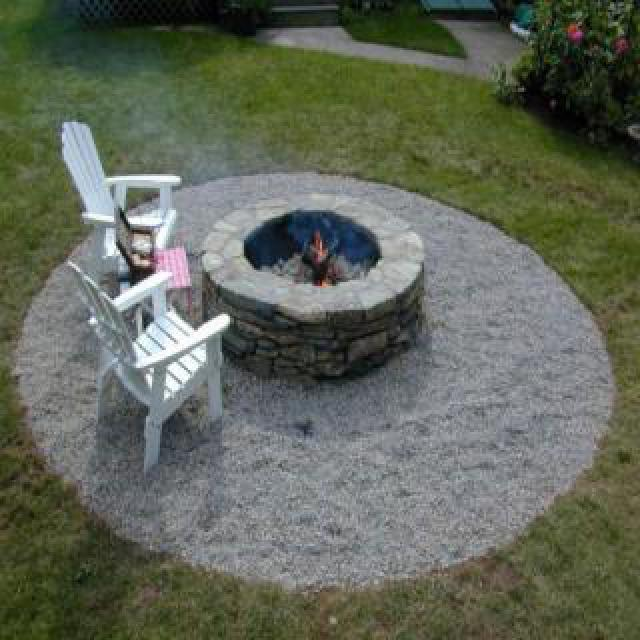Fire: (312, 228, 336, 282)
Smoke: (288, 204, 312, 254)
